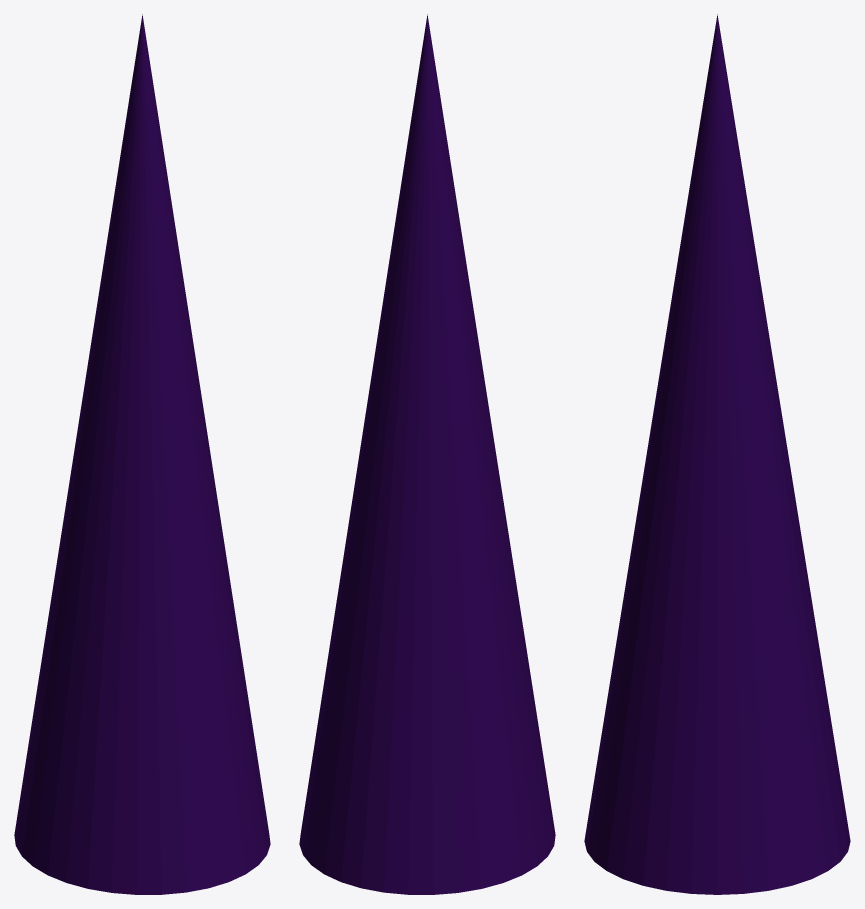
File: Spike.obj
3 renders of one model, left to right at view 1: azimuth 30°, elevation 25°; view 2: azimuth 150°, elevation 25°; view 3: azimuth 270°, elevation 25°, orthographic.
Visible parts, largest first — view 1: Cone; view 2: Cone; view 3: Cone.
Boxes of the visible parts, x1,y1,x2,y2 form: Cone: (14, 14, 270, 894); Cone: (299, 14, 555, 894); Cone: (584, 14, 850, 894).
Bounding box in the file's own units: 2.51 × 9.03 × 2.63.
